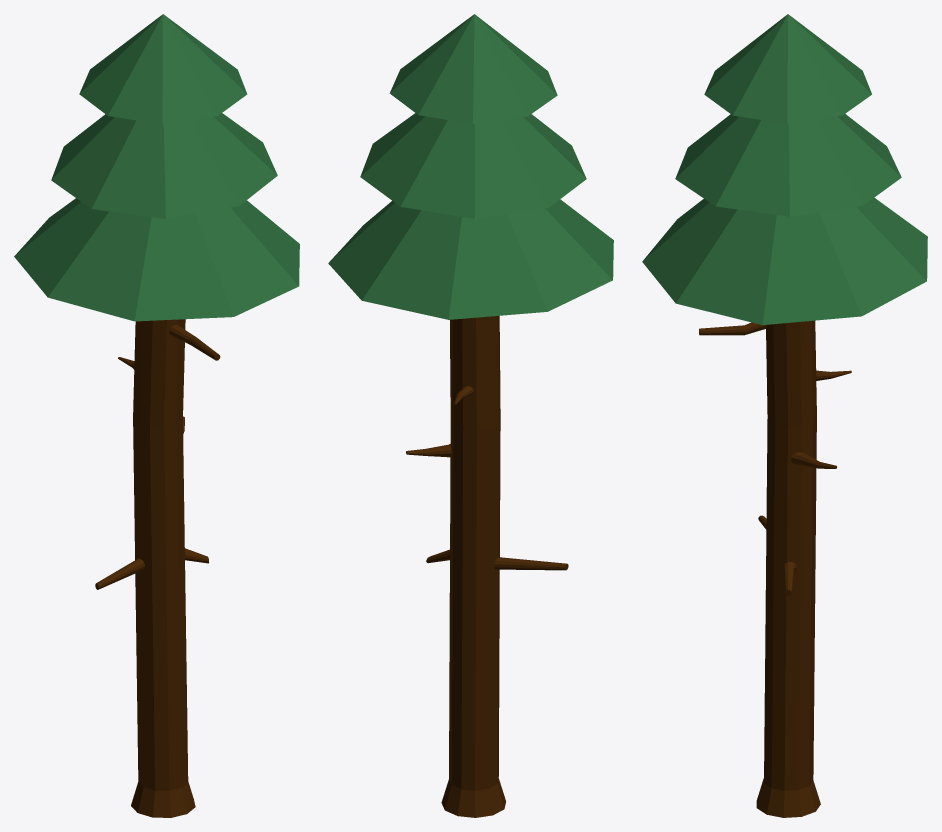
The model's file is lodgepole_pine_variant1.fbx.
3 views of the same model, side by side, from view 1: azimuth 30°, elevation 25°; view 2: azimuth 150°, elevation 25°; view 3: azimuth 270°, elevation 25° (orthographic).
Visible parts, largest first — view 1: Cone.008, Cylinder.001, Cone.009, Cone.010, Cylinder.003, Cylinder.002; view 2: Cone.008, Cylinder.001, Cone.009, Cone.010, Cylinder.002; view 3: Cone.008, Cylinder.001, Cone.009, Cone.010, Cylinder.003.
Boxes of the visible parts, box(x1,y1,x2,y2) form: Cone.008: box(14, 198, 299, 321); Cylinder.001: box(131, 319, 195, 817); Cone.009: box(51, 113, 277, 218); Cone.010: box(79, 14, 247, 124); Cylinder.003: box(169, 324, 220, 360); Cylinder.002: box(95, 558, 144, 589); Cone.008: box(328, 199, 613, 319); Cylinder.001: box(441, 315, 505, 817); Cone.009: box(360, 113, 586, 218); Cone.010: box(389, 14, 557, 123); Cylinder.002: box(494, 557, 568, 570); Cone.008: box(642, 197, 927, 325); Cylinder.001: box(756, 320, 820, 817); Cone.009: box(675, 114, 901, 216); Cone.010: box(704, 14, 871, 123); Cylinder.003: box(699, 322, 766, 335).
Bounding box in the file's own units: 230 × 691 × 227.
